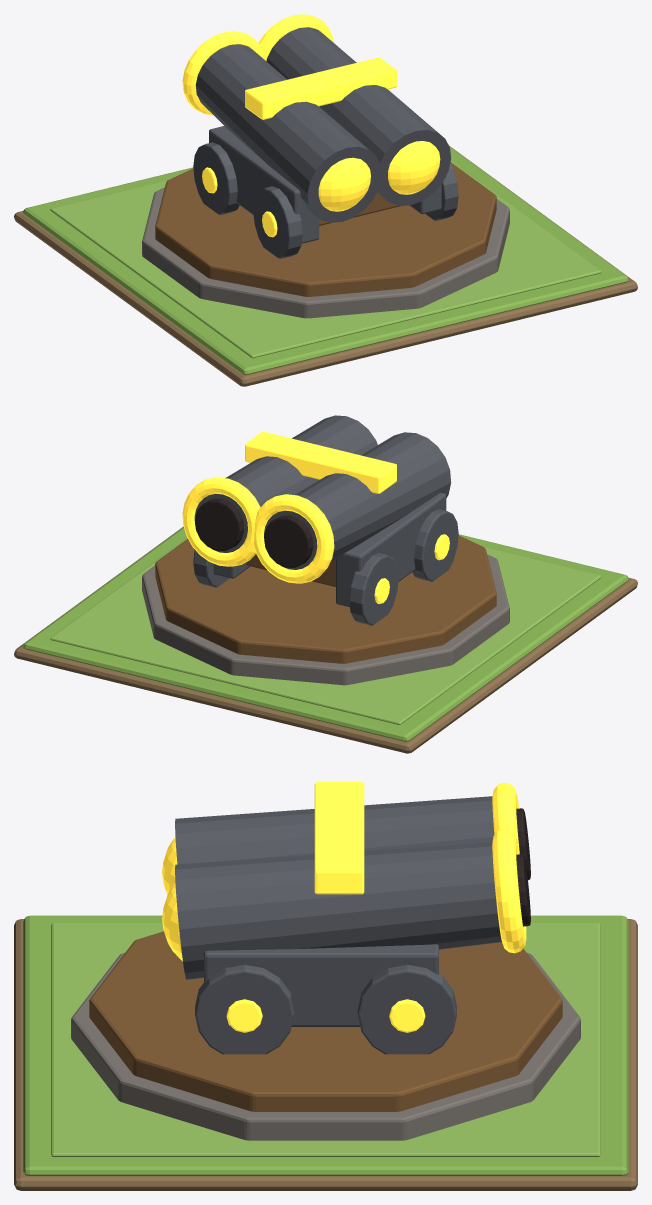
File: double_cannon_lv7.glb
3 renders of one model, top to bottom at view 1: azimuth 30°, elevation 25°; view 2: azimuth 150°, elevation 25°; view 3: azimuth 270°, elevation 25°, orthographic. The views are drawn at different scales.
Parts seen in each view (by area): view 1: TurntableWood, Base_Inner, Base_Grass, TwinBarrel_-1, TurntableStone, TwinBarrel_1, Base_Dirt, TwinYokeStrap, DC_Cheek_-1, DC_Wheel_-1_-1, DC_Wheel_-1_1, TwinBreech_-1 (+4 smaller); view 2: TurntableWood, Base_Inner, Base_Grass, TurntableStone, TwinBarrel_-1, Base_Dirt, TwinBarrel_1, TwinYokeStrap, DC_Cheek_-1, TwinMuzzleLip_-1, TwinMuzzleLip_1, DC_Wheel_-1_1 (+5 smaller); view 3: TurntableWood, Base_Inner, TwinBarrel_1, Base_Grass, TurntableStone, Base_Dirt, TwinBarrel_-1, DC_Cheek_1, DC_Wheel_1_1, DC_Wheel_1_-1, TwinYokeStrap, TwinMuzzleLip_1 (+7 smaller).
Boxes of the visible parts, x1,y1,x2,y2 form: TurntableWood: [155, 162, 496, 296]; Base_Inner: [50, 161, 601, 358]; Base_Grass: [23, 146, 628, 374]; TwinBarrel_-1: [195, 44, 381, 222]; TurntableStone: [142, 187, 509, 318]; TwinBarrel_1: [266, 27, 451, 205]; Base_Dirt: [14, 145, 637, 386]; TwinYokeStrap: [245, 57, 396, 119]; DC_Cheek_-1: [209, 126, 319, 243]; DC_Wheel_-1_-1: [253, 186, 302, 258]; DC_Wheel_-1_1: [193, 142, 239, 214]; TwinBreech_-1: [318, 157, 370, 211]; TurntableWood: [155, 535, 496, 663]; Base_Inner: [50, 538, 601, 724]; Base_Grass: [23, 527, 628, 741]; TurntableStone: [142, 554, 509, 685]; TwinBarrel_-1: [264, 432, 451, 569]; Base_Dirt: [14, 526, 637, 753]; TwinBarrel_1: [194, 415, 377, 552]; TwinYokeStrap: [245, 431, 396, 493]; DC_Cheek_-1: [336, 492, 446, 606]; TwinMuzzleLip_-1: [254, 494, 334, 583]; TwinMuzzleLip_1: [182, 477, 260, 566]; DC_Wheel_-1_1: [349, 553, 398, 625]; TurntableWood: [89, 931, 562, 1111]; Base_Inner: [51, 923, 600, 1156]; TwinBarrel_1: [175, 842, 501, 979]; Base_Grass: [23, 915, 628, 1175]; TurntableStone: [71, 953, 580, 1140]; Base_Dirt: [14, 919, 637, 1190]; TwinBarrel_-1: [175, 796, 494, 864]; DC_Cheek_1: [204, 944, 438, 1026]; DC_Wheel_1_1: [357, 964, 456, 1054]; DC_Wheel_1_-1: [195, 964, 294, 1054]; TwinYokeStrap: [314, 782, 364, 894]; TwinMuzzleLip_1: [492, 828, 526, 953].
Size of the model in its own units: 2.76 by 1.22 by 2.76.
